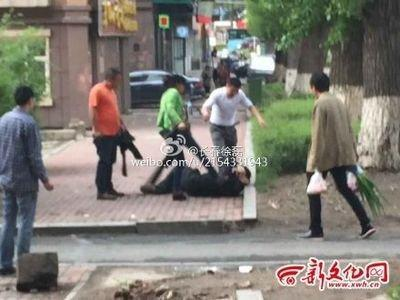Fall-Detected: (131, 154, 257, 200)
